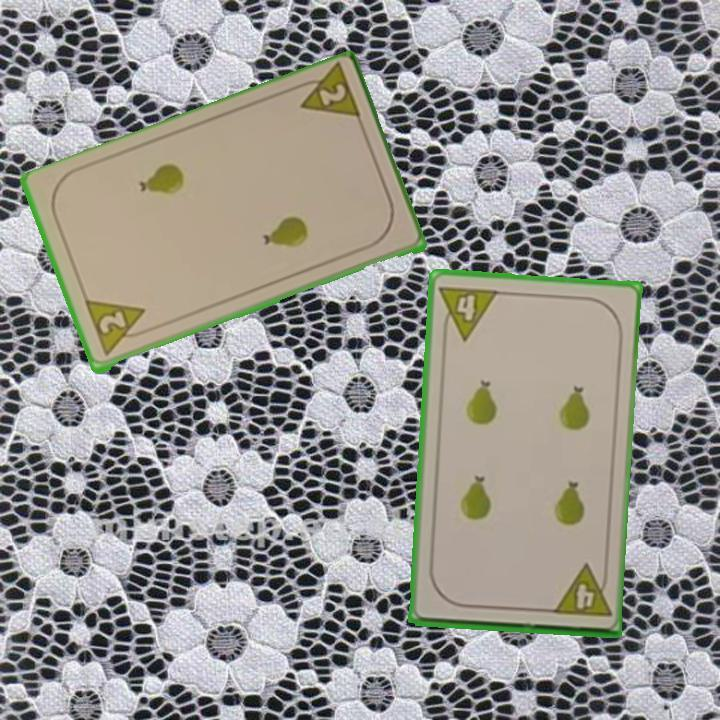2p: (288, 62, 364, 125), (81, 297, 153, 360)
4p: (436, 281, 501, 343), (549, 561, 614, 620)
